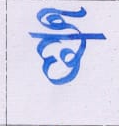ai_matra: (35, 1, 89, 34)
